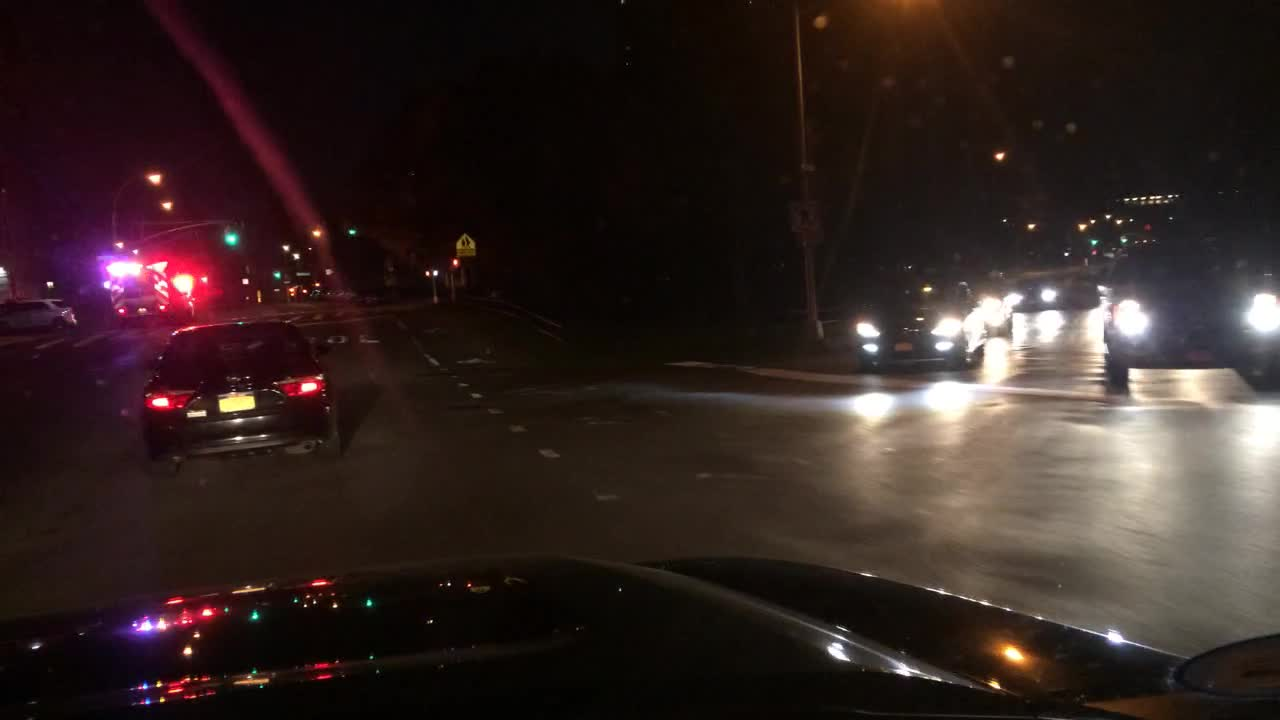car: (137, 315, 348, 481), (1095, 232, 1277, 393), (843, 268, 991, 376), (0, 292, 80, 334), (113, 279, 182, 327), (972, 279, 1015, 339), (1011, 274, 1069, 313)
traffic light: (224, 222, 237, 247), (1088, 234, 1099, 248), (450, 256, 461, 269), (271, 268, 282, 280), (345, 226, 358, 235)
traffic sign: (452, 230, 478, 258), (294, 269, 311, 279)
